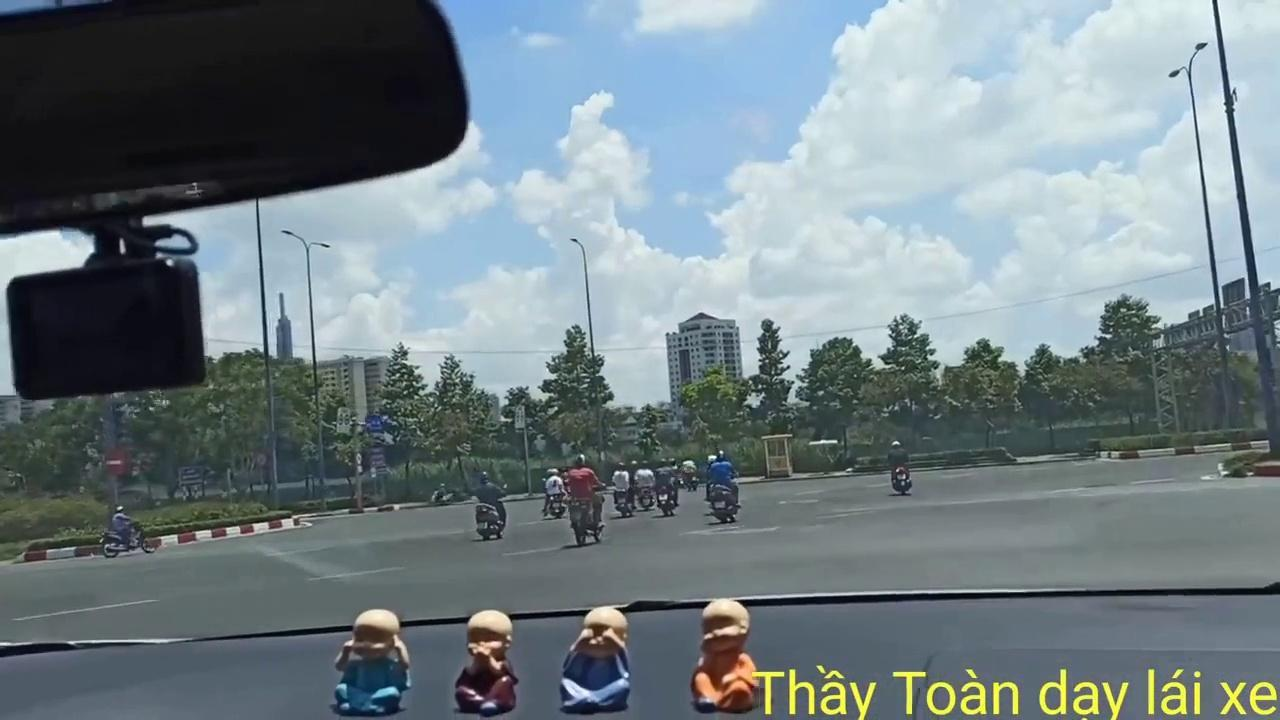Cấm cac phương tiện hoạt động trong khung giờ cố định: (336, 406, 351, 434)
Cấm đi ngược chiều: (102, 446, 129, 476)
